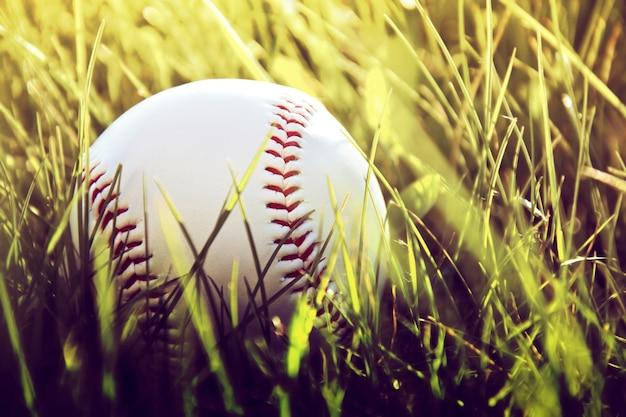baseball: (66, 78, 391, 369)
